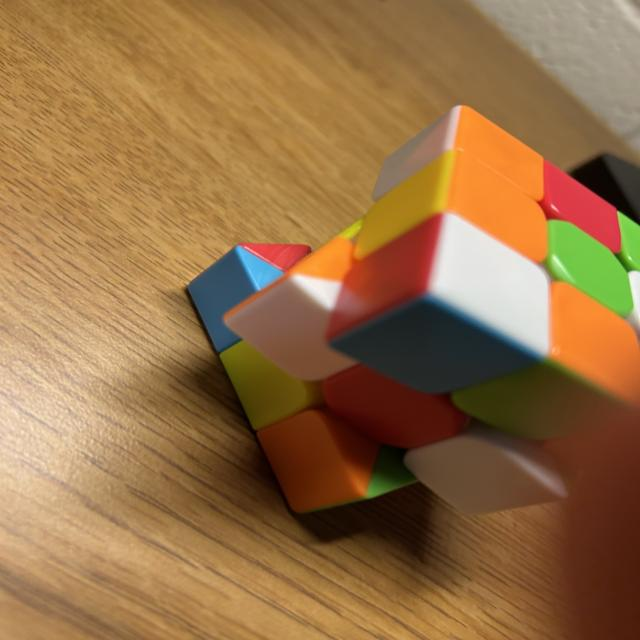Rubiks Cube: (189, 107, 640, 517)
